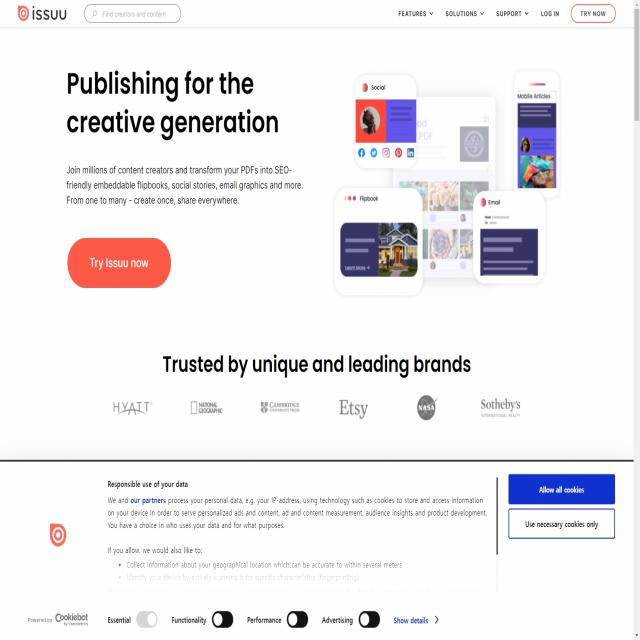menu-bar: (392, 4, 619, 24)
search: (82, 1, 182, 24)
side-panel: (506, 470, 618, 542)
